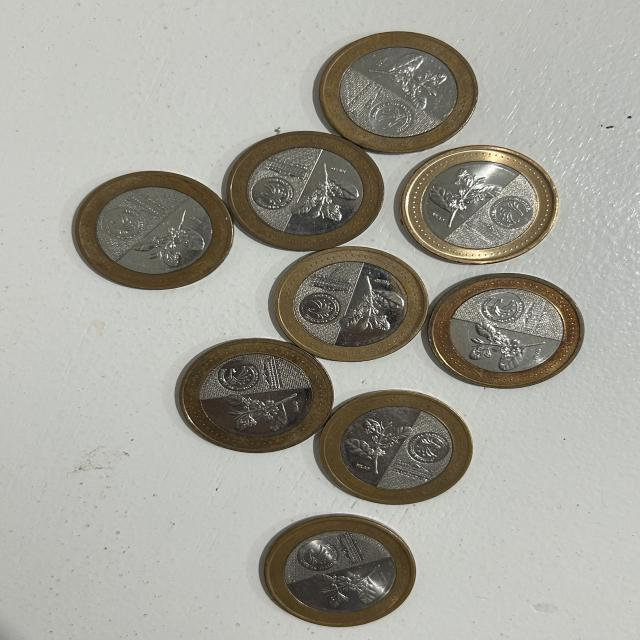20_New_Back: (140, 206, 205, 269), (291, 161, 356, 223), (338, 276, 406, 334), (472, 319, 542, 371), (220, 395, 315, 432), (376, 52, 442, 105), (430, 172, 499, 221), (340, 415, 401, 470), (312, 571, 381, 606)
